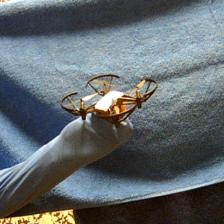drone: (60, 70, 160, 127)
